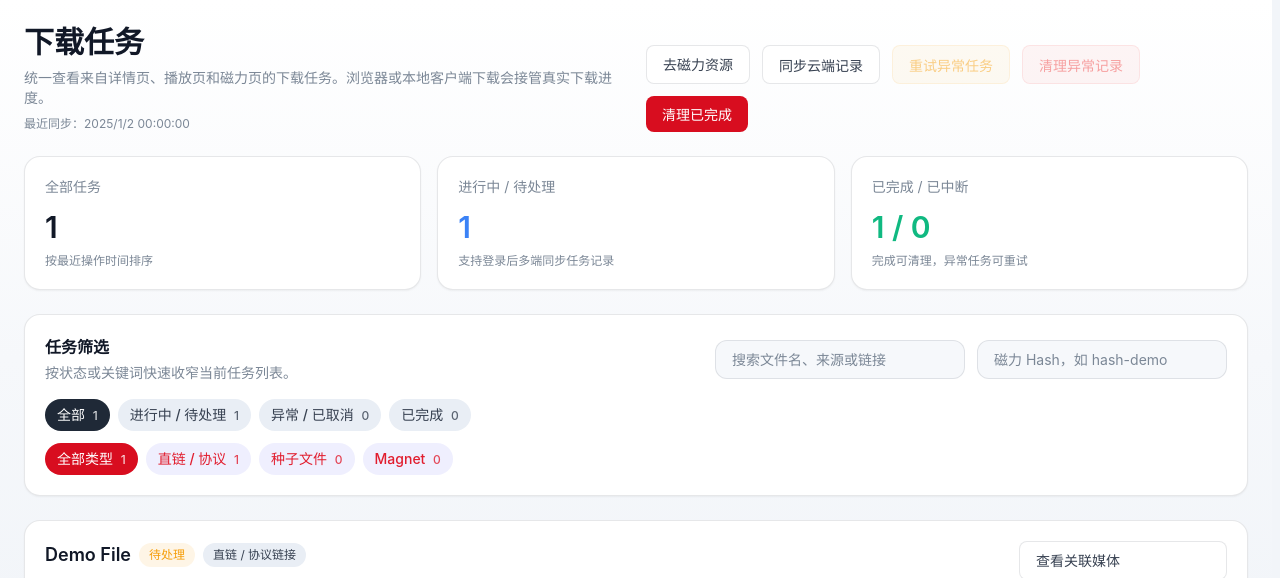
Test: DownloadsView › shows the generic completed-clear failure message when no remote error text is available
Click the button "清理已完成": (697, 114) [646,96,748,132]
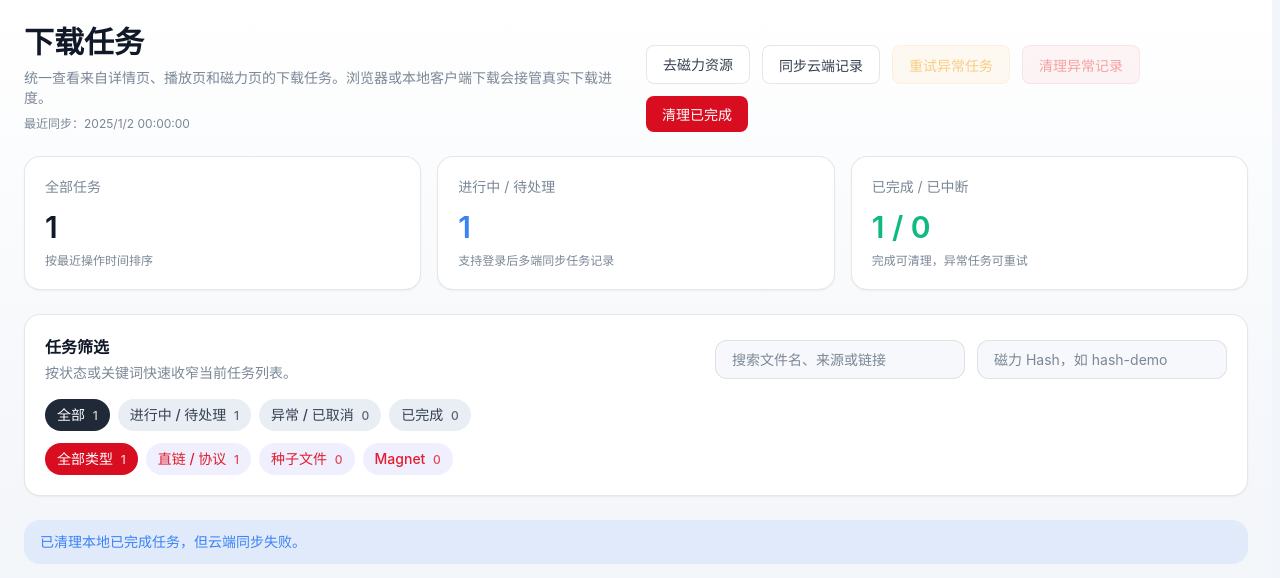
Now the text "已清理本地已完成任务，但云端同步失败。" is shown, box [24,520,1248,564]
